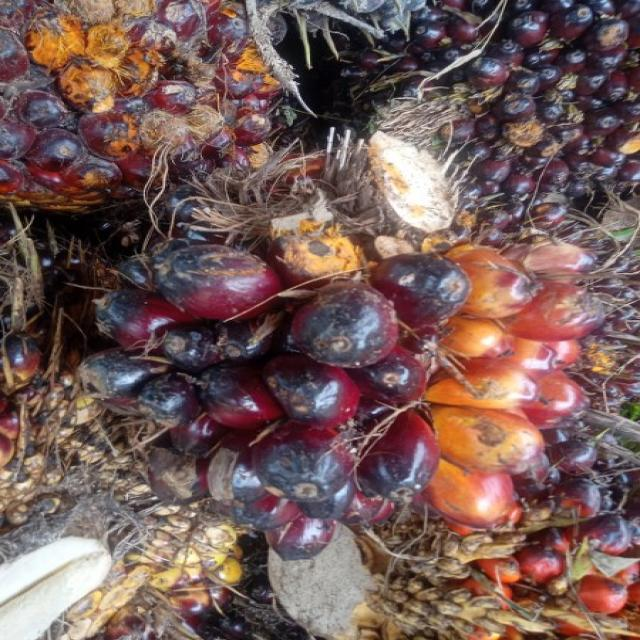fraksi 00: (74, 146, 626, 562)
